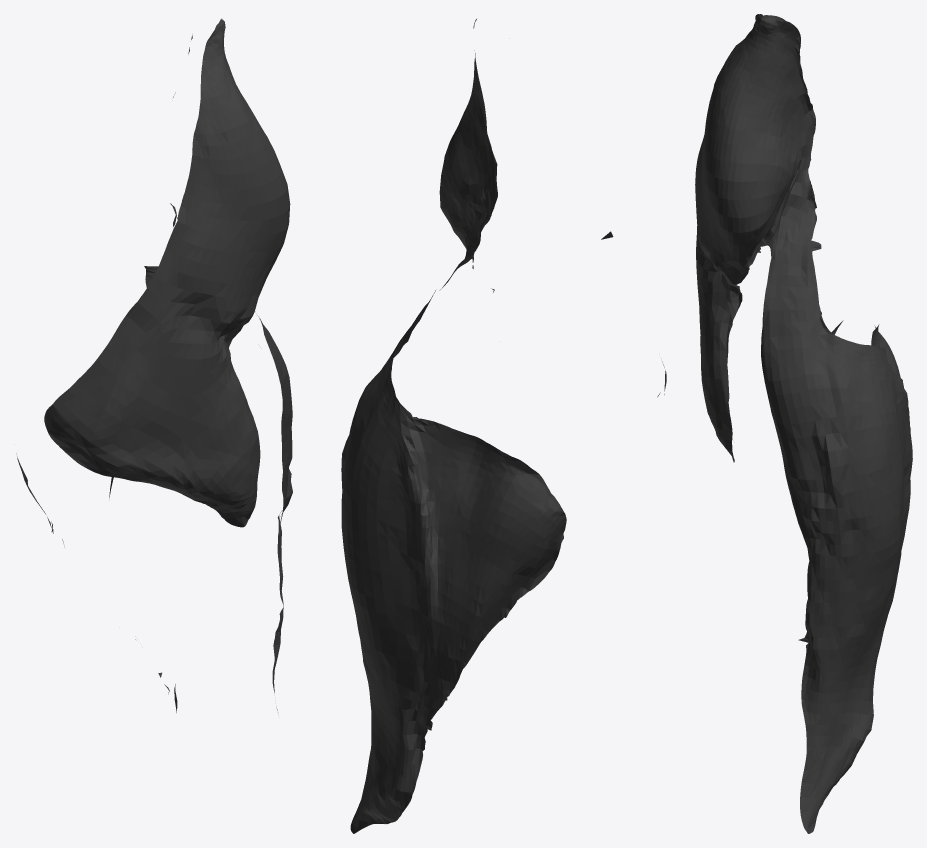
Rendered from Triceps_long.glb.
3 renders of one model, left to right at view 1: azimuth 30°, elevation 25°; view 2: azimuth 150°, elevation 25°; view 3: azimuth 270°, elevation 25°, orthographic. The views are drawn at different scales.
Visible parts, largest first — view 1: Triceps_long; view 2: Triceps_long; view 3: Triceps_long.
Part boxes in pixels (<box>): Triceps_long: <box>16,18,292,712</box>; Triceps_long: <box>341,19,666,833</box>; Triceps_long: <box>695,14,912,833</box>.
Bounding box in the file's own units: 0.1144 × 0.3165 × 0.081.
1 material, 1 textured.
